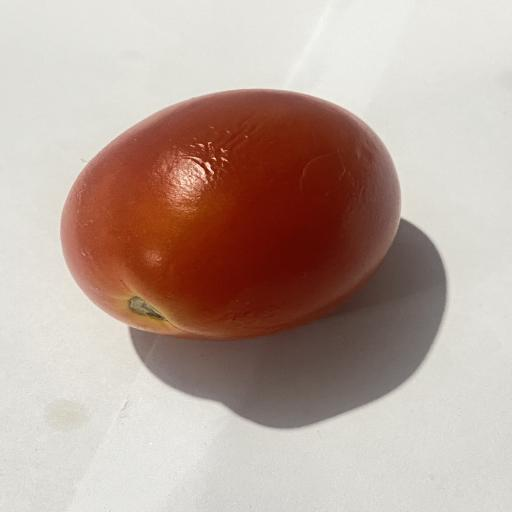overipe: (61, 89, 400, 339)
